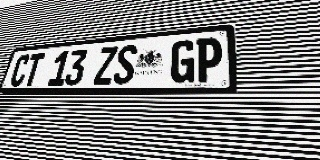1: (47, 50, 71, 86)
3: (63, 49, 88, 85)
C: (8, 54, 31, 86)
G: (169, 39, 196, 83)
P: (195, 37, 222, 83)
S: (112, 44, 138, 84)
T: (22, 53, 45, 86)
Z: (93, 46, 118, 85)
